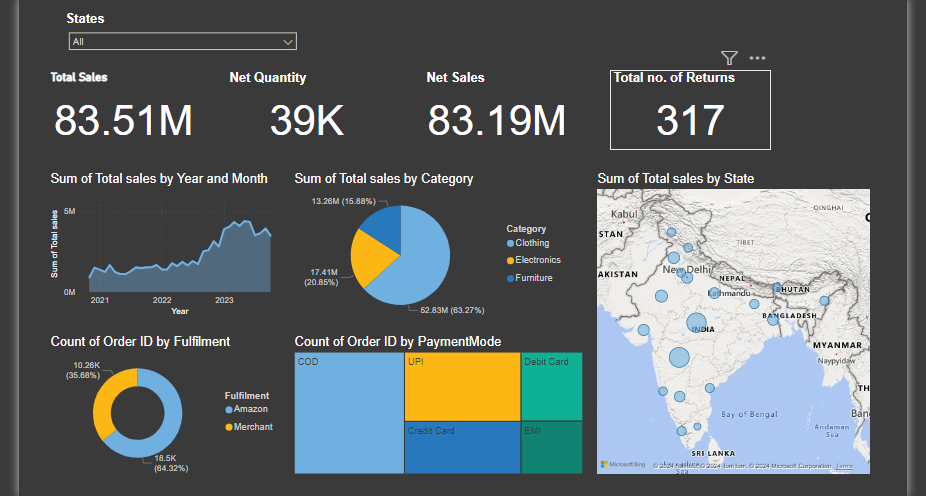

This screenshot's page, from the dashboard's own definition file:
{"tool":"powerbi","page":{"name":"Page 1","canvas":[1280,720],"ordinal":0},"visuals":[{"type":"card","title":"Total Sales","fields":{"Values":["Sum(Dataset.Total sales)"]},"box":[40,105,220,115],"z":0},{"type":"card","title":"Total no. of Returns","fields":{"Values":["Sum(Dataset.Returns)"]},"box":[851.7,105,231.7,115],"z":1000},{"type":"card","title":"Net Sales","fields":{"Values":["Sum(Dataset.Net sales)"]},"box":[581.7,105,213.3,115],"z":2000},{"type":"card","title":"Net Quantity","fields":{"Values":["Sum(Dataset.Net quantity)"]},"box":[298.3,105,231.7,115],"z":3000},{"type":"areaChart","fields":{"Category":["Dataset.Date.Variation.Date Hierarchy.Year","Dataset.Date.Variation.Date Hierarchy.Month"],"Y":["Sum(Dataset.Total sales)"]},"box":[40.3,250.3,341,213.3],"z":4000},{"type":"donutChart","fields":{"Category":["Dataset.Fulfilment"],"Y":["CountNonNull(Dataset.Order ID)"]},"box":[40.3,485.5,341,206.6],"z":5000},{"type":"map","fields":{"Category":["Dataset.State"],"Size":["Sum(Dataset.Total sales)"]},"box":[828.1,250.3,403.1,441.8],"z":6000},{"type":"pieChart","fields":{"Category":["Dataset.Category"],"Y":["Sum(Dataset.Total sales)"]},"box":[391.4,250.3,403.1,221.7],"z":7000},{"type":"treemap","fields":{"Group":["Dataset.PaymentMode"],"Values":["CountNonNull(Dataset.Order ID)"]},"box":[391.4,485.5,425,206.6],"z":8000},{"type":"slicer","title":"States","fields":{"Values":["Dataset.State"]},"box":[61.7,20,348.3,85],"z":9000}]}

Visuals, with their boxes on the page's 1280x720 design canvas (x1, y1, x2, y2). These are canvas units, not pixel positions in the 926x496 screenshot, which may show the page scaled, cropped or inside an application window:
"Total Sales" card: 40:105:260:220
"Total no. of Returns" card: 852:105:1083:220
"Net Sales" card: 582:105:795:220
"Net Quantity" card: 298:105:530:220
areaChart - Dataset.Date.Variation.Date Hierarchy.Year x Dataset.Date.Variation.Date Hierarchy.Month: 40:250:381:464
donutChart - Dataset.Fulfilment x CountNonNull(Dataset.Order ID): 40:486:381:692
map - Dataset.State x Sum(Dataset.Total sales): 828:250:1231:692
pieChart - Dataset.Category x Sum(Dataset.Total sales): 391:250:794:472
treemap - Dataset.PaymentMode x CountNonNull(Dataset.Order ID): 391:486:816:692
"States" slicer: 62:20:410:105
